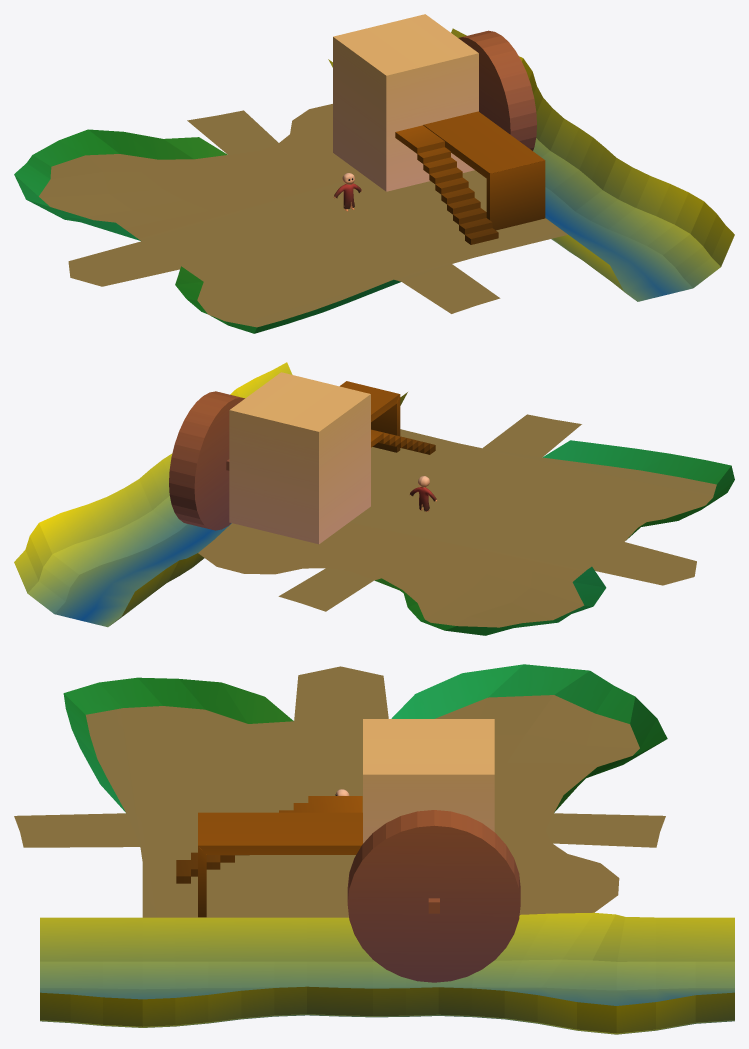
The model's file is Zone1.glb.
The picture shows the model from 3 angles, top to bottom: view 1: azimuth 30°, elevation 25°; view 2: azimuth 150°, elevation 25°; view 3: azimuth 270°, elevation 25°; orthographic projection. The views are drawn at different scales.
Visible parts, largest first — view 1: Plane.001, Cube.003, Cylinder, Cube.005, Cube.001, Cube; view 2: Plane.001, Cube.003, Cylinder, Cube.001, Cube, Cube.005; view 3: Plane.001, Cylinder, Cube.003, Cube.001, Cube.005, Cube.
Boxes of the visible parts, <box> form: Plane.001: <box>14,28,734,333</box>; Cube.003: <box>333,14,478,191</box>; Cylinder: <box>458,30,536,150</box>; Cube.005: <box>395,125,498,244</box>; Cube.001: <box>423,111,544,178</box>; Cube: <box>486,160,545,230</box>; Plane.001: <box>14,362,734,635</box>; Cube.003: <box>229,372,370,544</box>; Cylinder: <box>169,391,244,530</box>; Cube.001: <box>340,381,399,421</box>; Cube: <box>371,394,400,452</box>; Cube.005: <box>371,429,435,454</box>; Plane.001: <box>14,664,734,1034</box>; Cylinder: <box>347,810,520,982</box>; Cube.003: <box>363,719,494,843</box>; Cube.001: <box>198,812,362,854</box>; Cube.005: <box>176,796,362,883</box>; Cube: <box>198,846,206,917</box>.
Bounding box in the file's own units: 40.7 × 10.99 × 36.51.
Materials: 1 (1 with a texture image).
